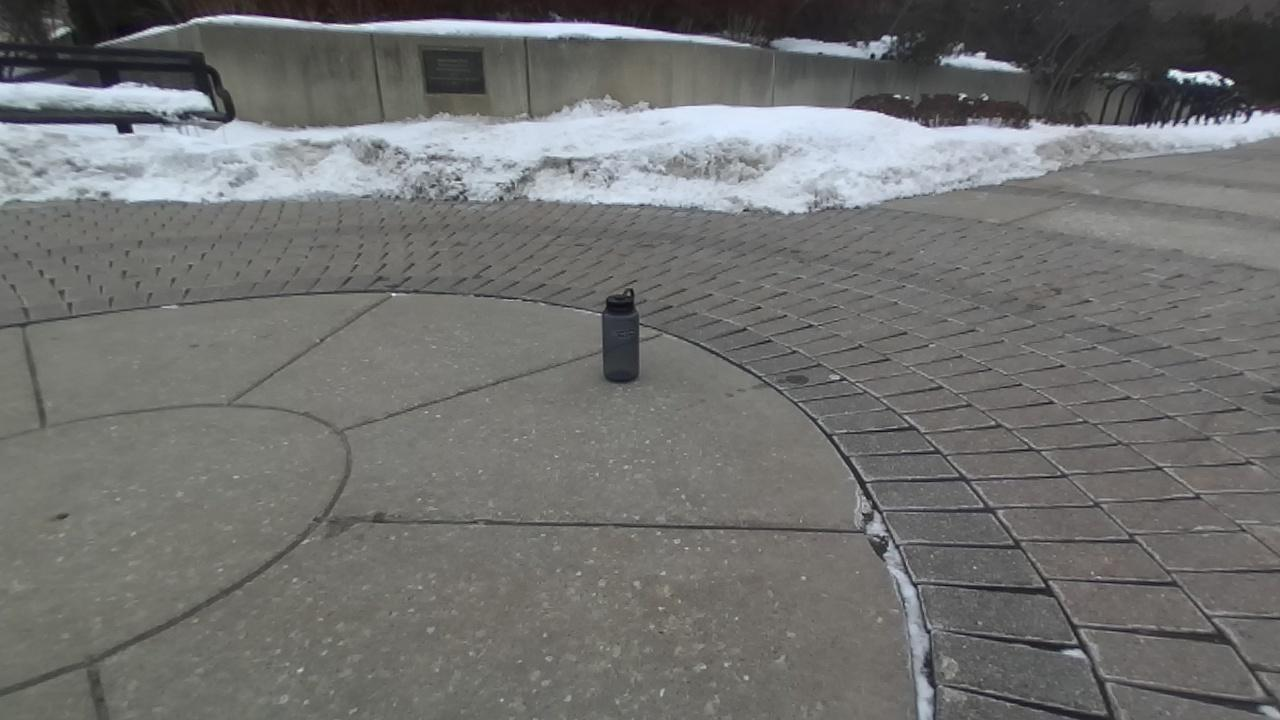bottle: (601, 288, 639, 381)
